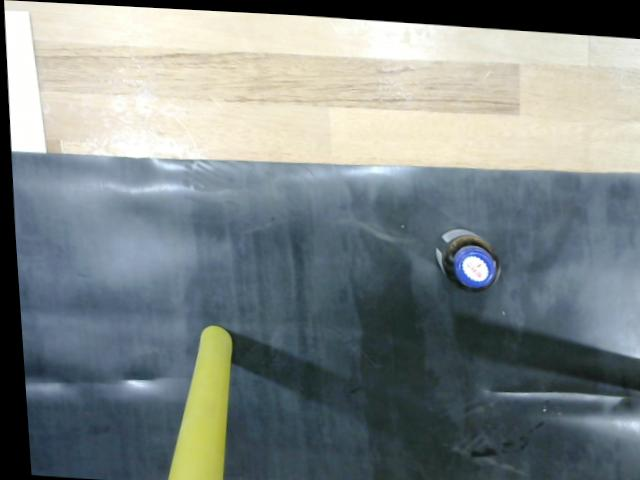glass: (423, 212, 507, 290)
